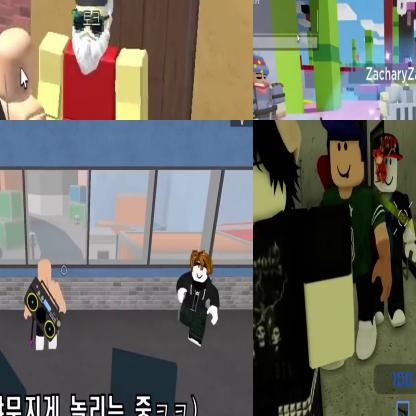Roblox-Avatar: (254, 121, 358, 416), (318, 121, 394, 359), (38, 1, 150, 120), (372, 133, 416, 330), (1, 27, 76, 120), (177, 250, 221, 348), (25, 260, 67, 351)
